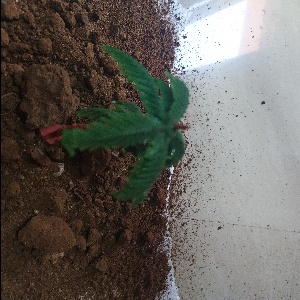plant: (44, 38, 210, 195)
